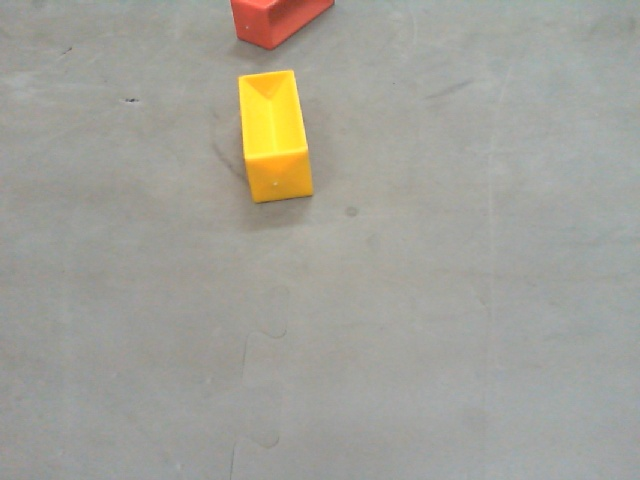RedSample: (229, 1, 335, 50)
YellowSample: (227, 65, 316, 207)
